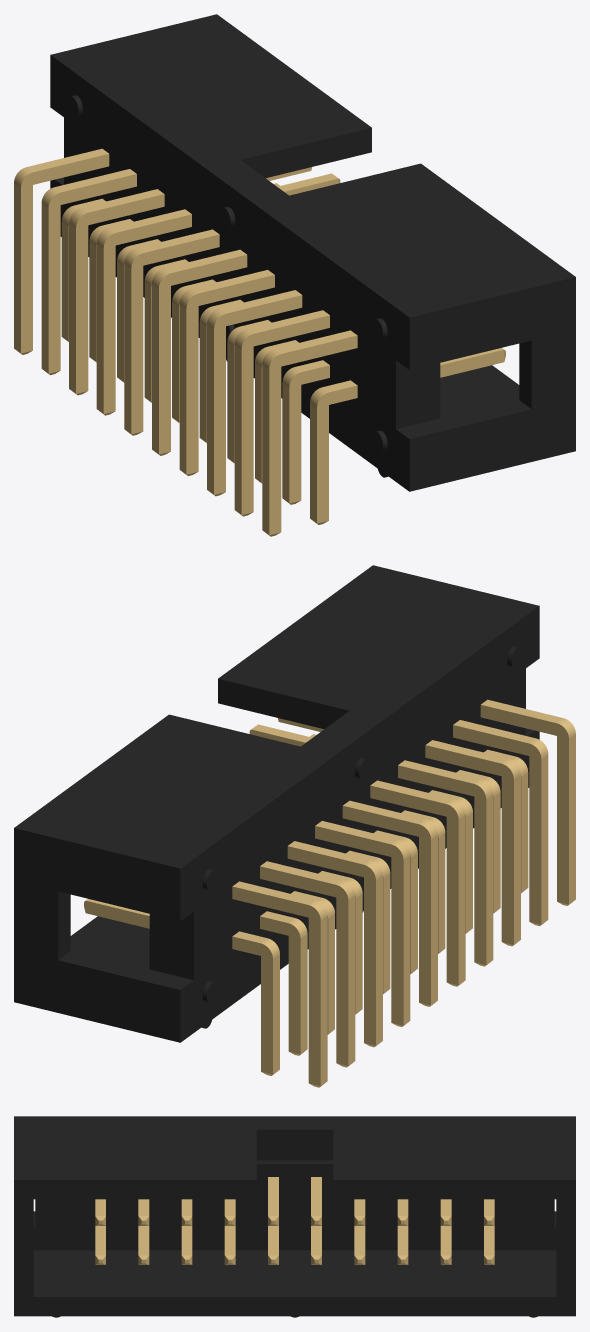
The model's file is kc-idc-header_2x10_p2.54mm_horizontal.glb.
3 renders of one model, top to bottom at view 1: azimuth 30°, elevation 25°; view 2: azimuth 150°, elevation 25°; view 3: azimuth 270°, elevation 25°, orthographic. The views are drawn at different scales.
Parts seen in each view (by area): view 1: 0_0_0_0, 0.75_0.5_0.25_0.9; view 2: 0_0_0_0, 0.75_0.5_0.25_0.9; view 3: 0_0_0_0, 0.75_0.5_0.25_0.9.
Part boxes in pixels (x1=…): 0_0_0_0: x1=50, y1=14, x2=575, y2=491; 0.75_0.5_0.25_0.9: x1=14, y1=148, x2=505, y2=536; 0_0_0_0: x1=14, y1=565, x2=539, y2=1042; 0.75_0.5_0.25_0.9: x1=84, y1=699, x2=575, y2=1087; 0_0_0_0: x1=14, y1=1116, x2=575, y2=1317; 0.75_0.5_0.25_0.9: x1=95, y1=1177, x2=494, y2=1264.
Size of the model in its own units: 1.36 by 1.21 by 3.31.
